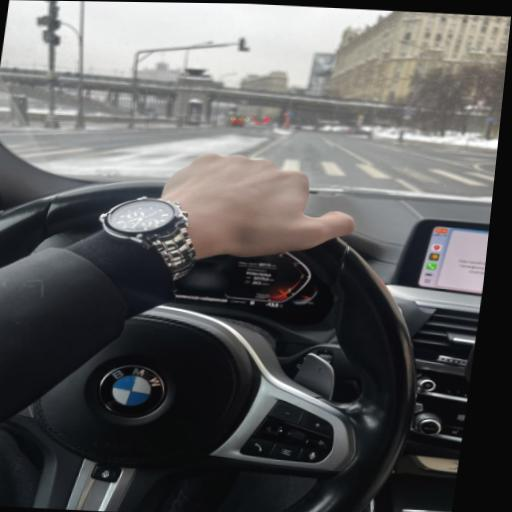Hands-on-the-Wheel: (81, 138, 377, 299)
